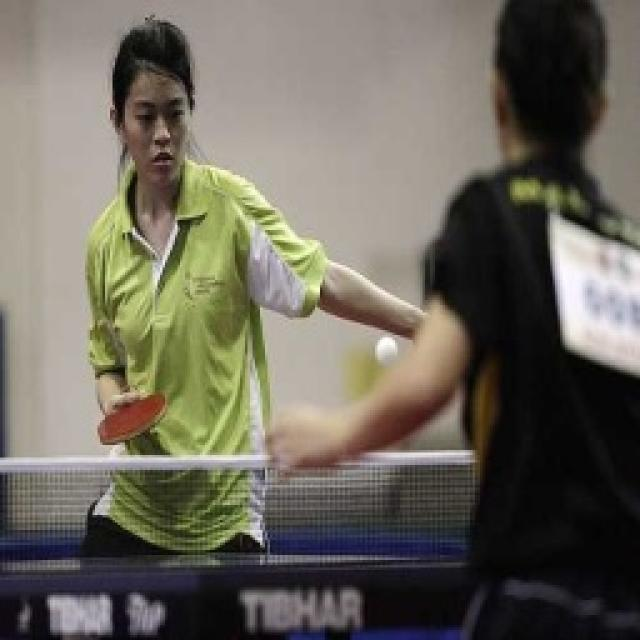ping-pong-ball: (374, 335, 401, 368)
